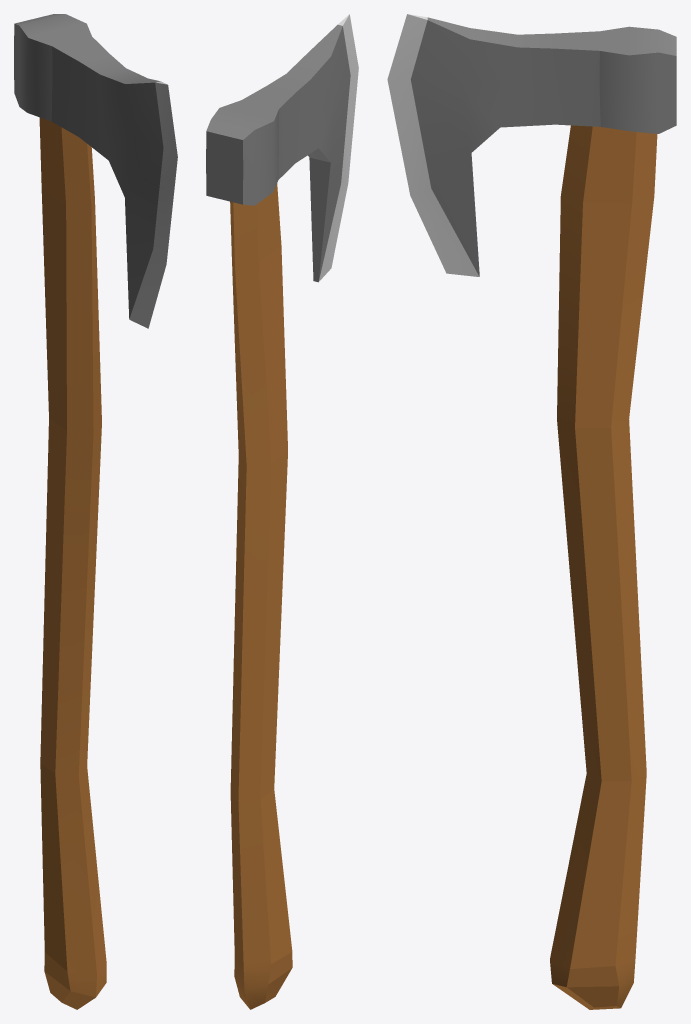
Rendered from Axe17.glb.
The picture shows the model from 3 angles, left to right: view 1: azimuth 30°, elevation 25°; view 2: azimuth 150°, elevation 25°; view 3: azimuth 270°, elevation 25°; orthographic projection. The views are drawn at different scales.
Visible parts, largest first — view 1: weapon_generator; view 2: weapon_generator; view 3: weapon_generator.
Part boxes in pixels (x1,y1,x2,y2): weapon_generator: [14, 14, 177, 1009]; weapon_generator: [206, 14, 358, 1009]; weapon_generator: [387, 14, 676, 1009].
Bounding box in the file's own units: 0.0495 × 0.801 × 0.2107.
